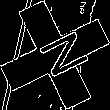N_SW: (23, 26, 87, 84)
